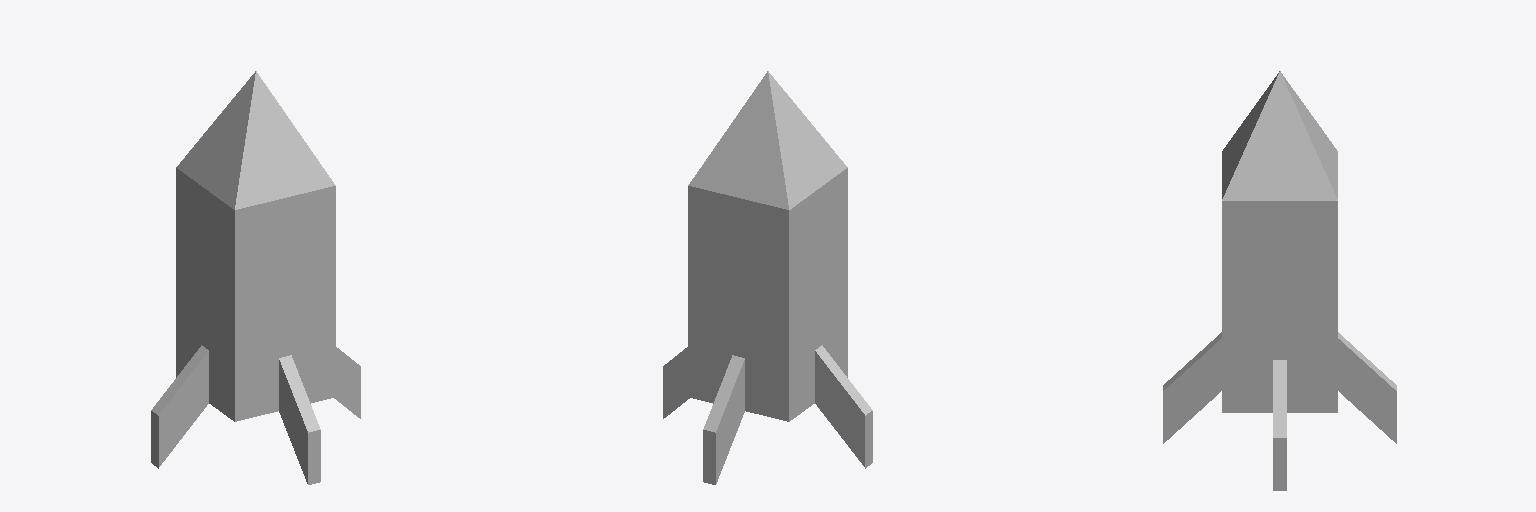
Rendered from nuclear_missile.obj.
The picture shows the model from 3 angles: view 1: azimuth 30°, elevation 25°; view 2: azimuth 150°, elevation 25°; view 3: azimuth 270°, elevation 25°; orthographic projection.
Visible parts, largest first — view 1: body, tip, fin2, fin4, fin1; view 2: body, tip, fin2, fin3, fin1; view 3: body, tip, fin3, fin4, fin1.
Part boxes in pixels (left/top/right/bottom): body: left=176, top=168, right=335, bottom=421; tip: left=176, top=71, right=335, bottom=209; fin2: left=151, top=345, right=208, bottom=468; fin4: left=279, top=355, right=320, bottom=484; fin1: left=334, top=347, right=360, bottom=418; body: left=688, top=168, right=847, bottom=421; tip: left=688, top=71, right=847, bottom=209; fin2: left=815, top=345, right=872, bottom=468; fin3: left=703, top=355, right=744, bottom=484; fin1: left=663, top=347, right=689, bottom=418; body: left=1222, top=201, right=1337, bottom=412; tip: left=1222, top=71, right=1337, bottom=200; fin3: left=1338, top=332, right=1396, bottom=443; fin4: left=1163, top=332, right=1221, bottom=443; fin1: left=1273, top=360, right=1286, bottom=490.
Bounding box in the file's own units: 2 × 3.5 × 2.